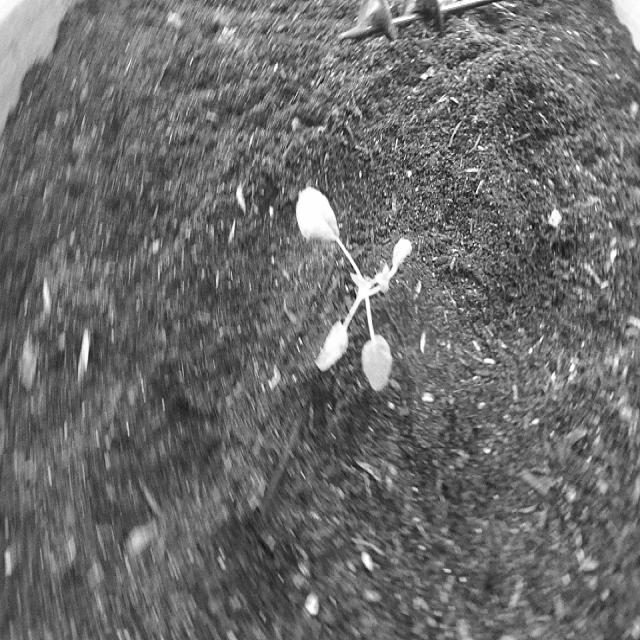Healthy: (287, 183, 423, 401)
